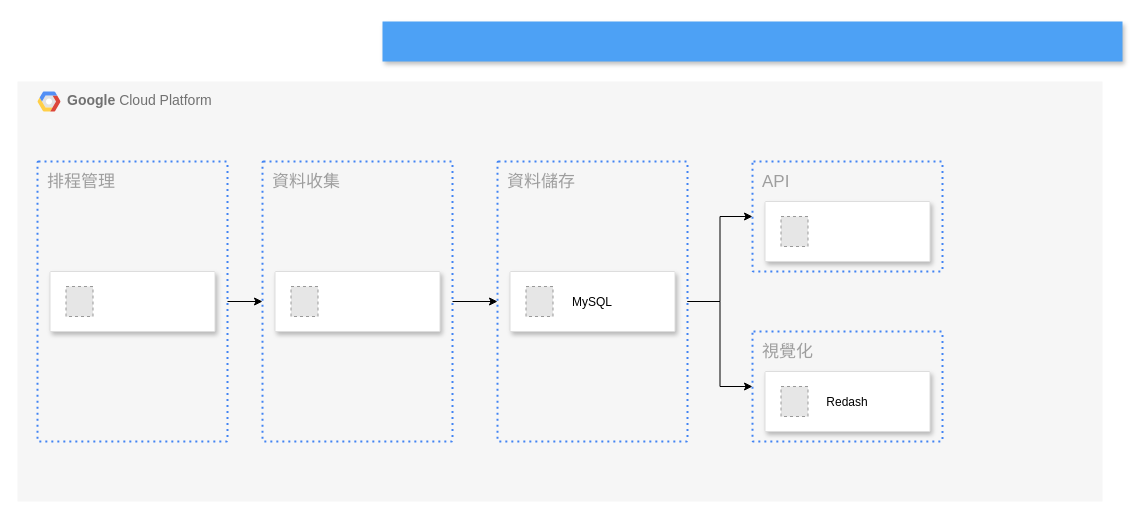
This 1145x518 diagram has some shape labels left out. Grey dashed boxes stand in for pictures. The shapes that lost their labels are listed below. From the top down, each one's centre as x and y in pixels, then its label:
point (753, 42): 資料工程 架構圖
point (848, 232): FastAPI
point (133, 302): Airflow
point (358, 302): 爬蟲 Request
